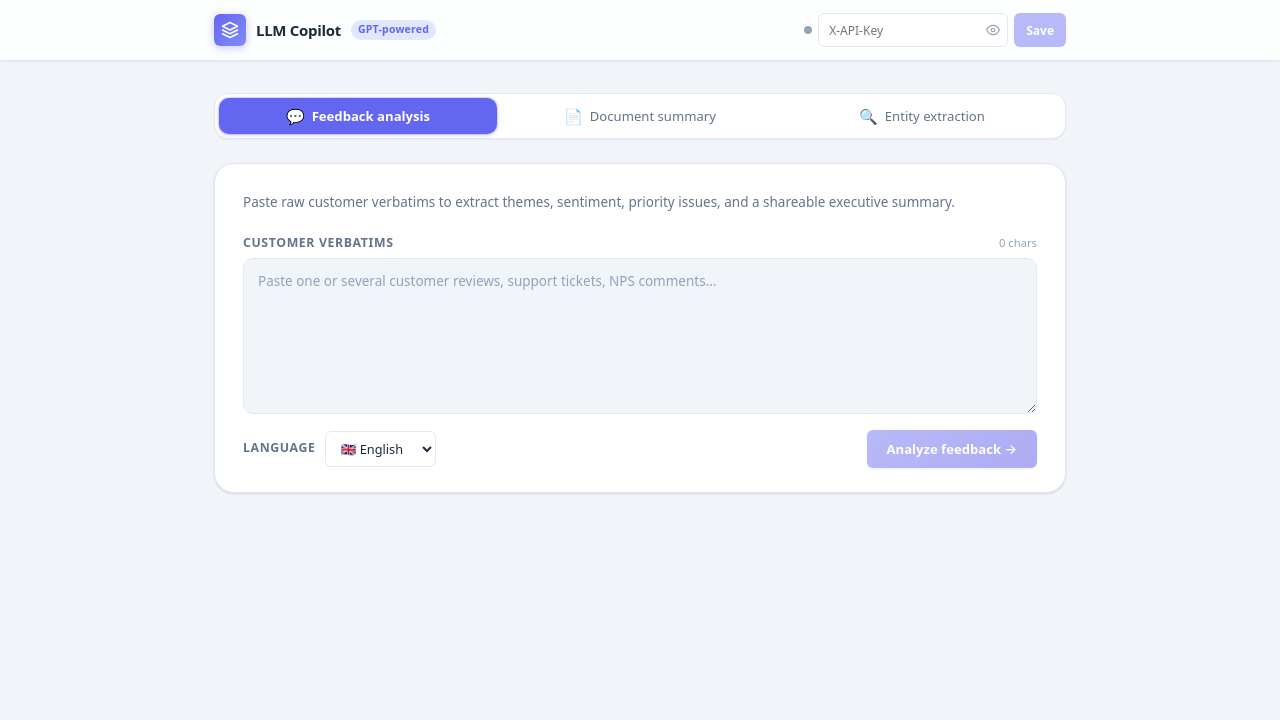
Test: App › switches to document analyzer tab
This screenshot has width=1280, height=720.
Click the tab "📄 Document summary" at (640, 116), box [501,98,779,134]
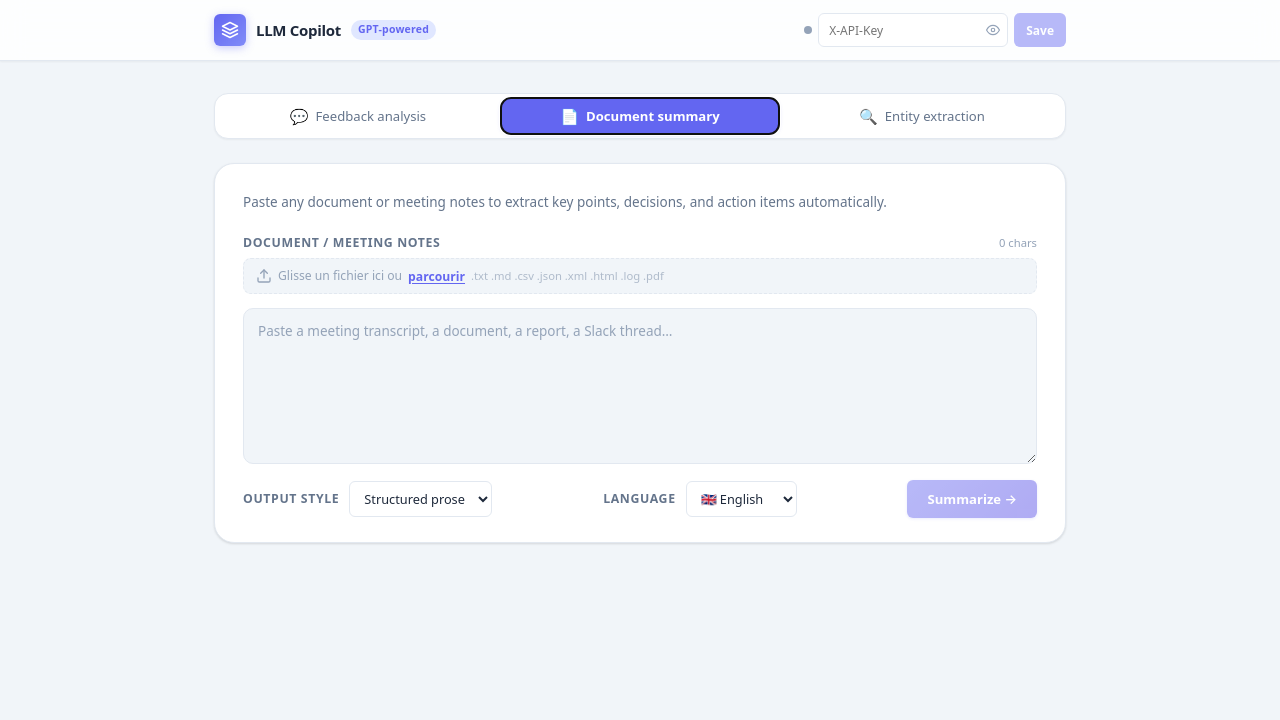
Expected: the text box labelled "Document / meeting notes" is shown, [243,308,1037,464]
